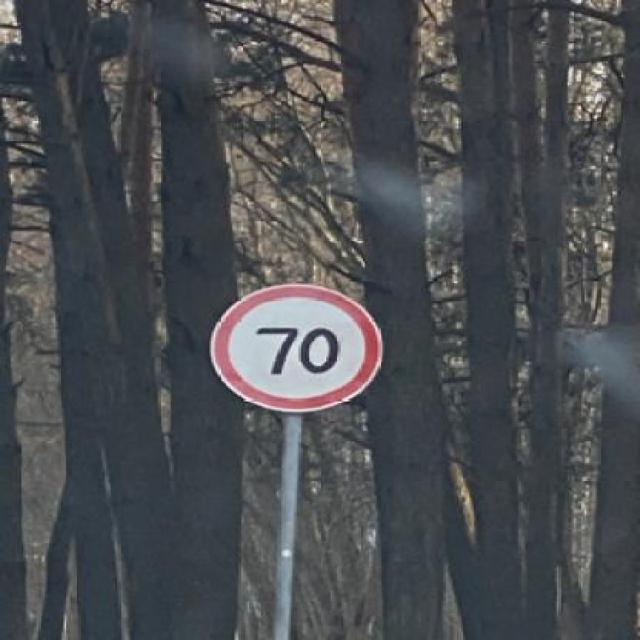speed limit 70: (209, 282, 384, 413)
